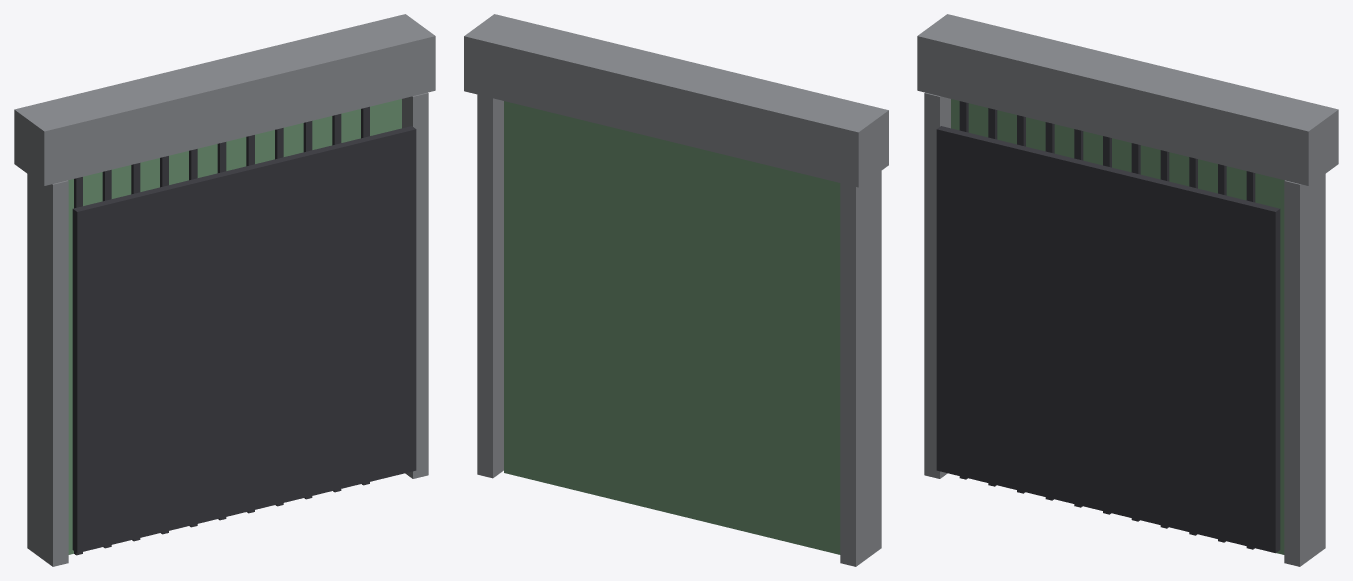
The model's file is prop_shutter_green.glb.
The picture shows the model from 3 angles, left to right: view 1: azimuth 30°, elevation 25°; view 2: azimuth 150°, elevation 25°; view 3: azimuth 330°, elevation 25°; orthographic projection.
Parts seen in each view (by area): view 1: shutter_green; view 2: shutter_green; view 3: shutter_green.
Boxes of the visible parts, x1,y1,x2,y2 form: shutter_green: (14, 14, 435, 566); shutter_green: (464, 14, 888, 566); shutter_green: (917, 14, 1338, 566).
Size of the model in its own units: 3 by 3.2 by 0.49.
